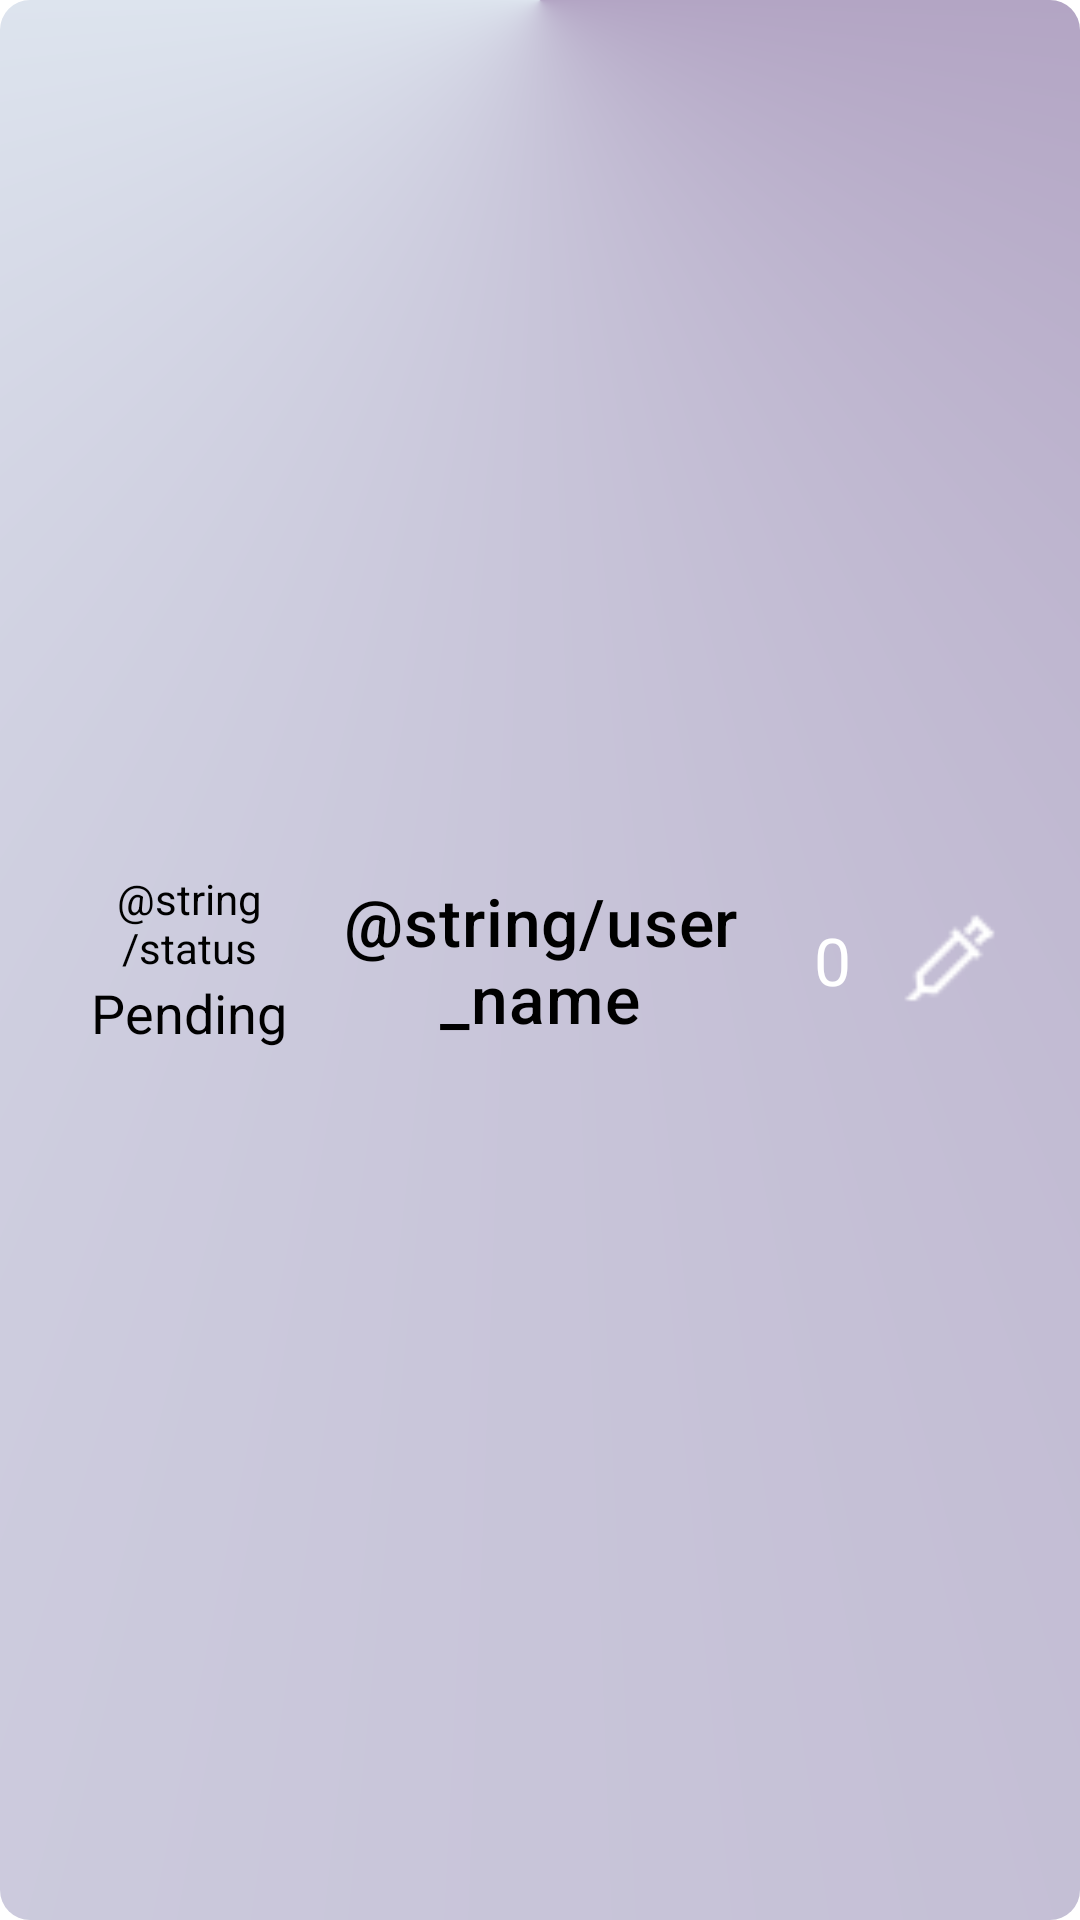

Screen size 1080px x 1920px. Icon name, then its center in pixels as [x,y]:
syringe: [950,958]
